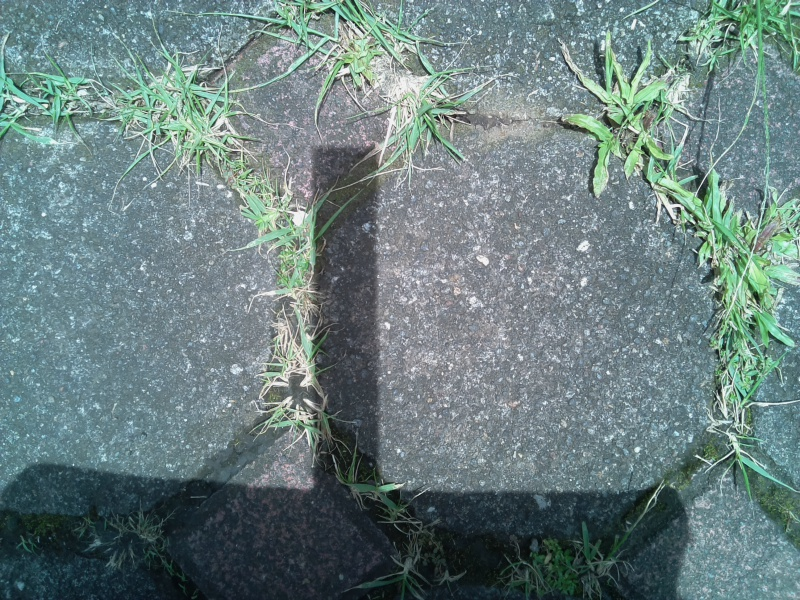Weed: (689, 196, 789, 366), (122, 61, 243, 170), (338, 35, 451, 149), (577, 60, 673, 175), (250, 197, 336, 309), (265, 324, 338, 446), (708, 377, 791, 482), (508, 533, 617, 599), (72, 505, 170, 570), (24, 61, 98, 139), (340, 464, 410, 528), (360, 542, 438, 599)
